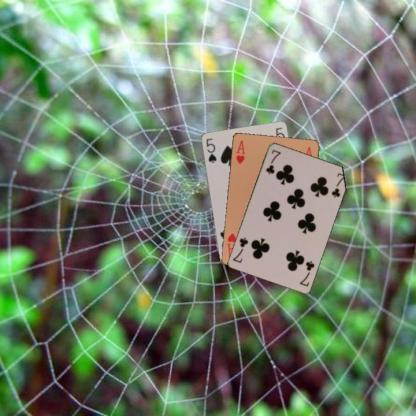5s: (204, 136, 218, 164)
7c: (263, 146, 282, 176), (297, 258, 315, 287)
Ah: (232, 138, 247, 166)
